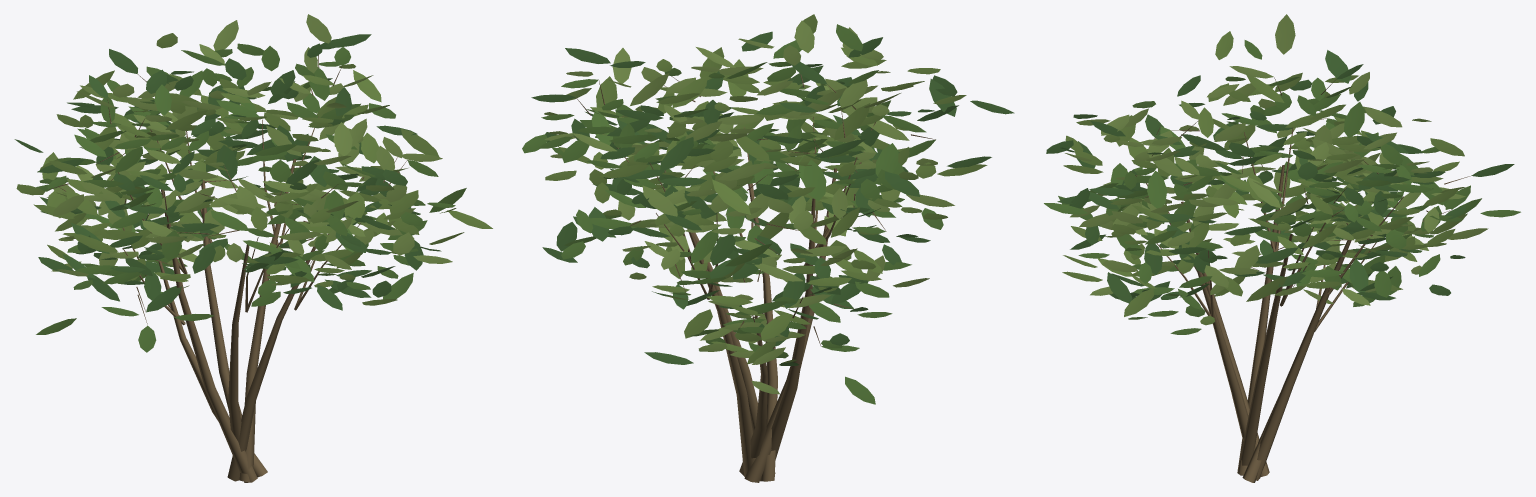
The model's file is Lentisque_2_High.fbx.
The picture shows the model from 3 angles, left to right: view 1: azimuth 30°, elevation 25°; view 2: azimuth 150°, elevation 25°; view 3: azimuth 270°, elevation 25°; orthographic projection. The views are drawn at different scales.
Visible parts, largest first — view 1: Lentisque_2_High; view 2: Lentisque_2_High; view 3: Lentisque_2_High.
Part boxes in pixels (x1,y1,x2,y2): Lentisque_2_High: (14, 14, 492, 482); Lentisque_2_High: (522, 14, 1014, 482); Lentisque_2_High: (1044, 14, 1520, 482).
Bounding box in the file's own units: 206 × 213 × 235.
